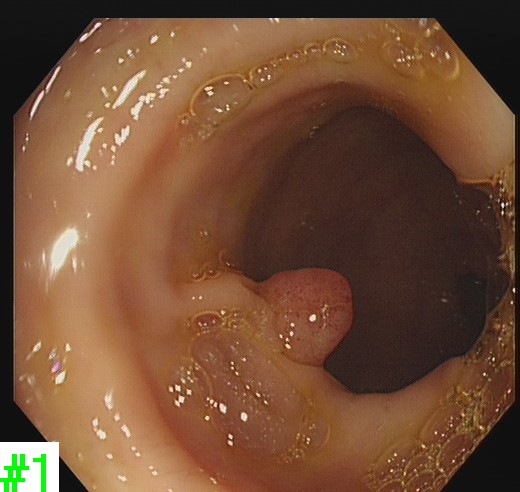adenoma: (258, 263, 356, 370)
